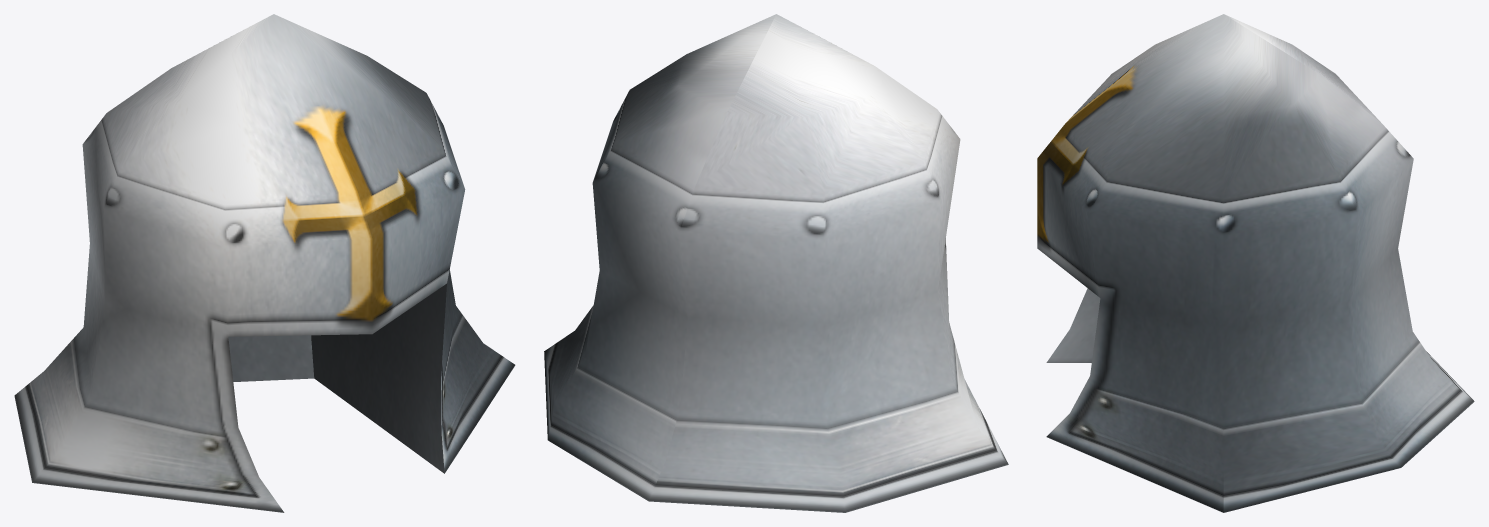
Rendered from helmet.fbx.
The picture shows the model from 3 angles, left to right: view 1: azimuth 30°, elevation 25°; view 2: azimuth 150°, elevation 25°; view 3: azimuth 270°, elevation 25°; orthographic projection. The views are drawn at different scales.
Visible parts, largest first — view 1: helmet; view 2: helmet; view 3: helmet.
Part boxes in pixels (x1,y1,x2,y2): helmet: (14, 14, 515, 512); helmet: (544, 14, 1008, 512); helmet: (1037, 14, 1474, 512).
Bounding box in the file's own units: 46.77 × 37.9 × 38.79.
